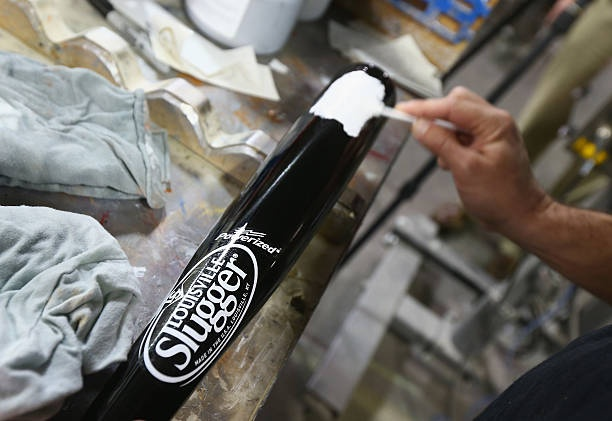bita: (95, 67, 393, 420)
